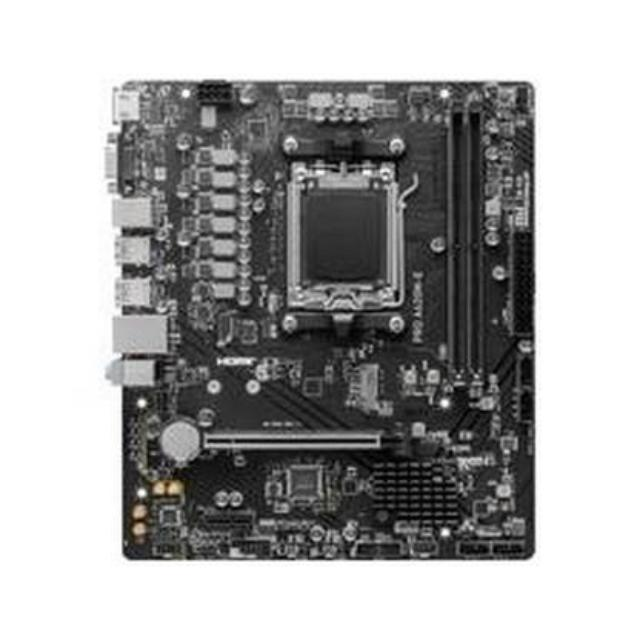Mainboard: (95, 64, 542, 567)
